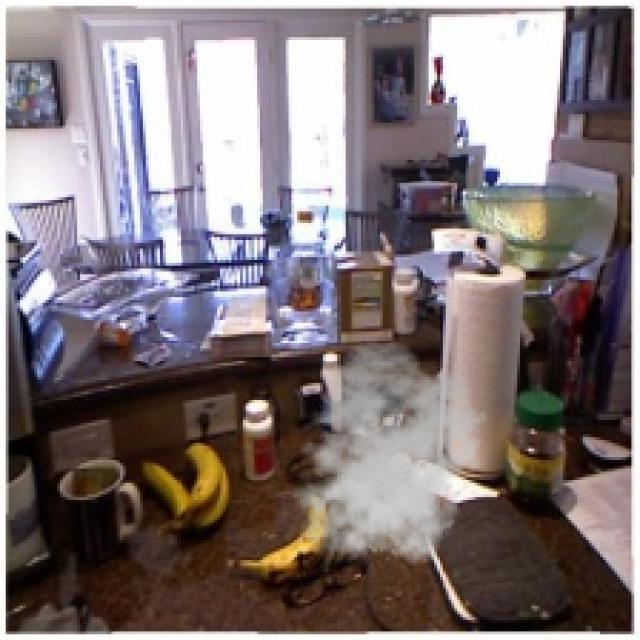Smoke: (286, 339, 488, 572)
